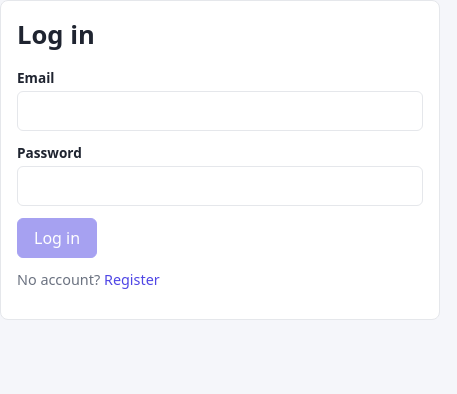
Scenario: LoginComponent › shows the generic error for invalid credentials
Type "user@example.com" into the field with id "email" at (220, 111), box [17, 91, 423, 131]
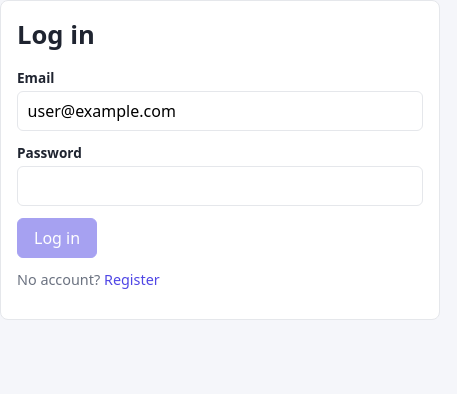
Type "wrong-password" into the password field labelled "Password" at (220, 186), box [17, 166, 423, 206]
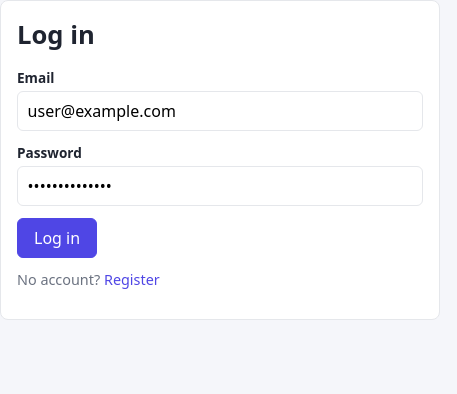
Submit the form, box [17, 68, 423, 258]
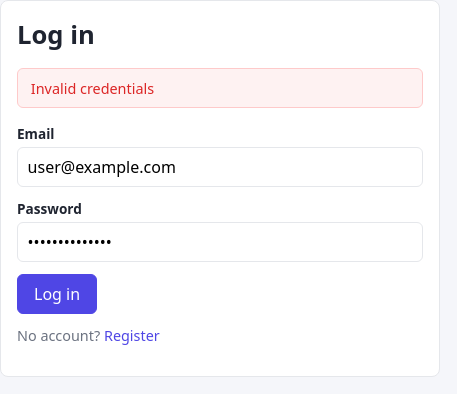
expect the message with class "error" reads "Invalid credentials": met, box [31, 79, 154, 98]
